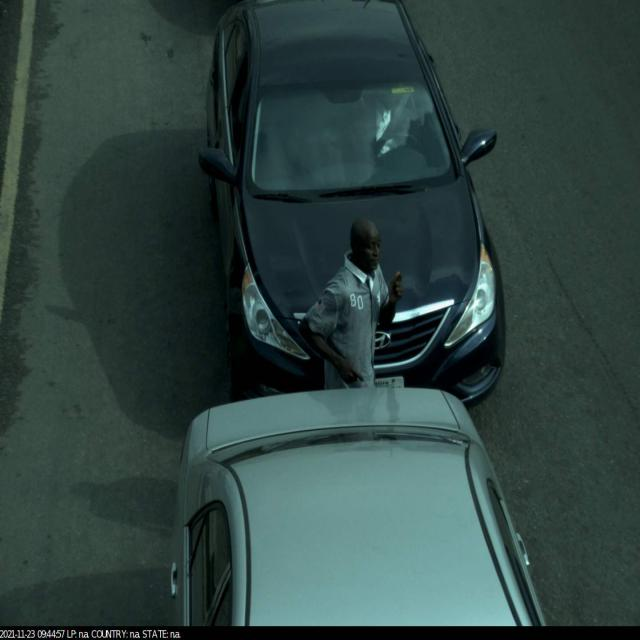windshield: (245, 77, 468, 204)
